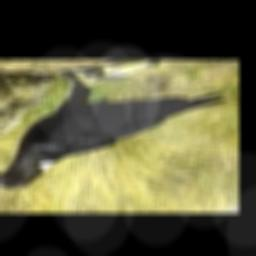Crow: (0, 67, 230, 190)
